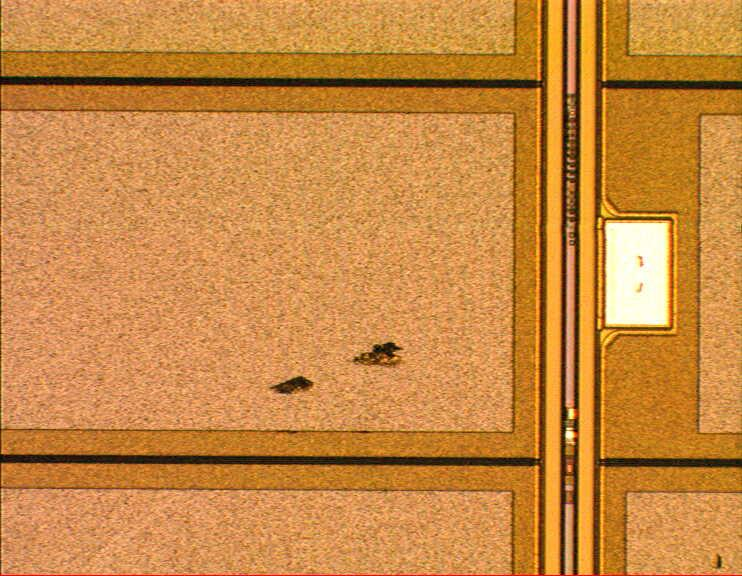SCRATCH: (222, 324, 440, 422)
